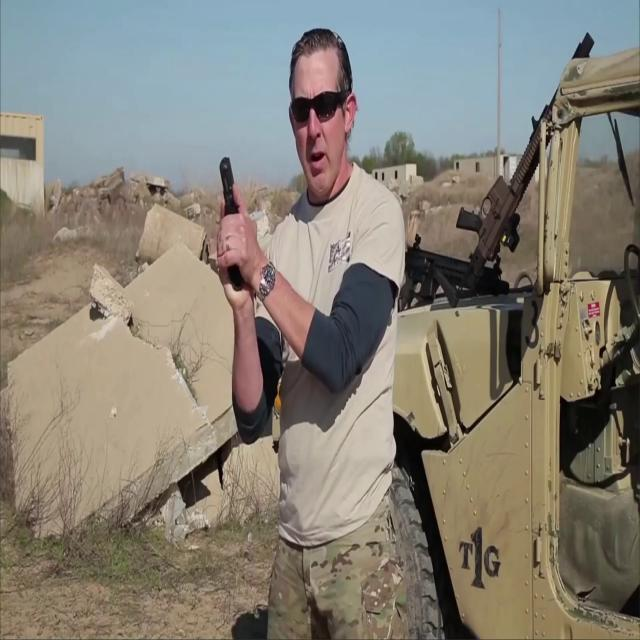gun: (220, 156, 246, 292)
